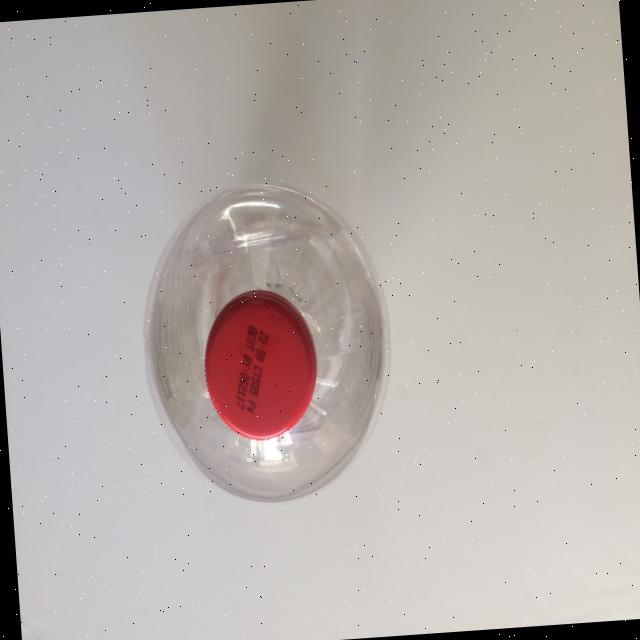plastic: (132, 174, 400, 511)
